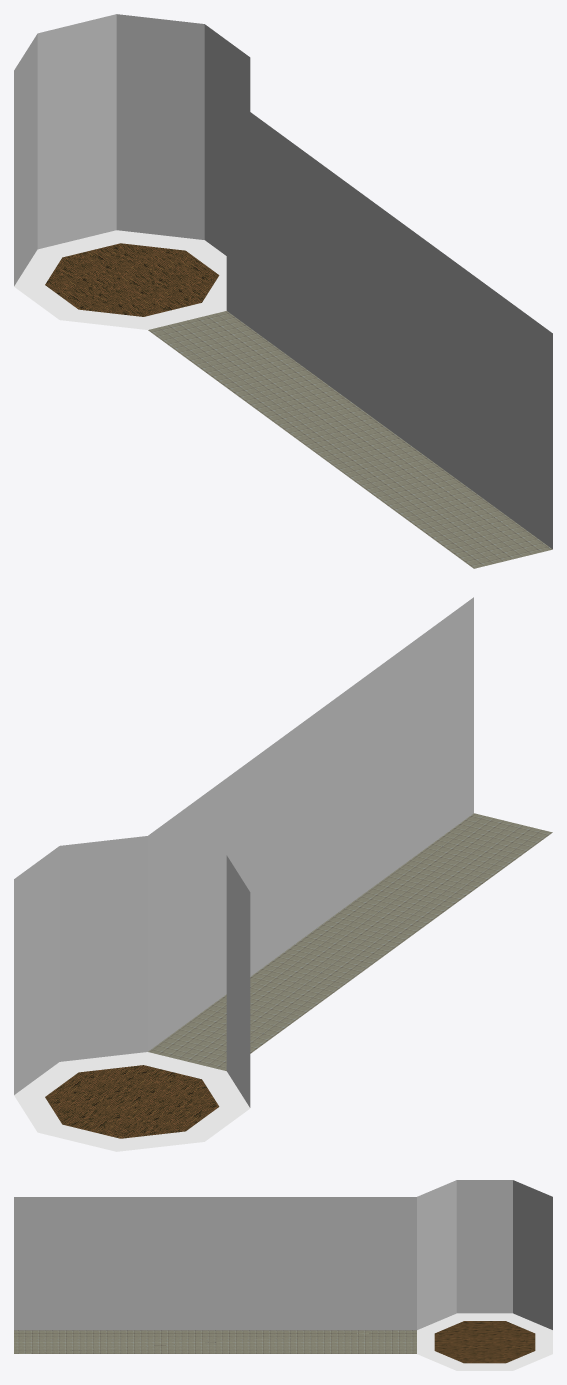
File: level01interiorA.glb
The picture shows the model from 3 angles, top to bottom: view 1: azimuth 30°, elevation 25°; view 2: azimuth 150°, elevation 25°; view 3: azimuth 270°, elevation 25°; orthographic projection. The views are drawn at different scales.
Parts seen in each view (by area): view 1: Cylinder; view 2: Cylinder; view 3: Cylinder.
Boxes of the visible parts, x1,y1,x2,y2 form: Cylinder: (14,14,552,568); Cylinder: (14,597,552,1151); Cylinder: (14,1180,552,1370).
Size of the model in its own units: 2.61 by 2.83 by 10.35.
4 materials, 2 textured.
